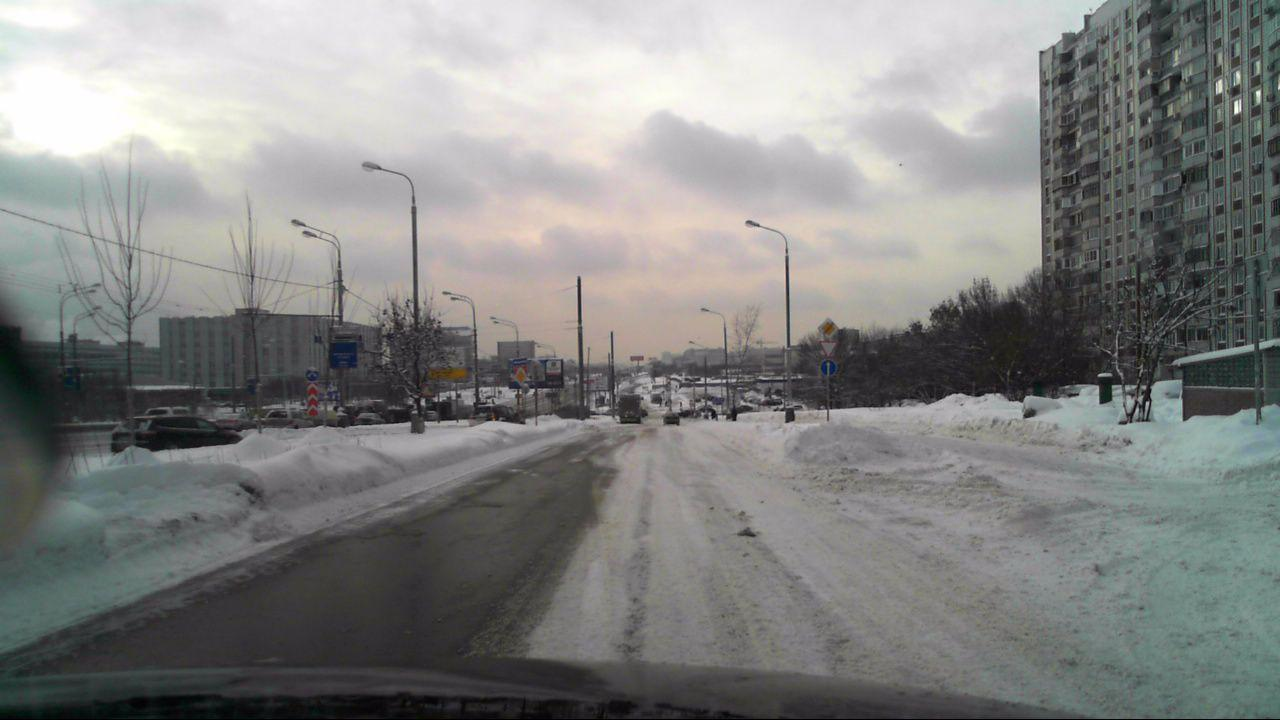2_1: (511, 367, 528, 386)
2_2: (817, 316, 840, 339)
2_4: (819, 340, 838, 356)
4_1_1: (819, 358, 837, 378)
5_7_2: (512, 357, 528, 365)
